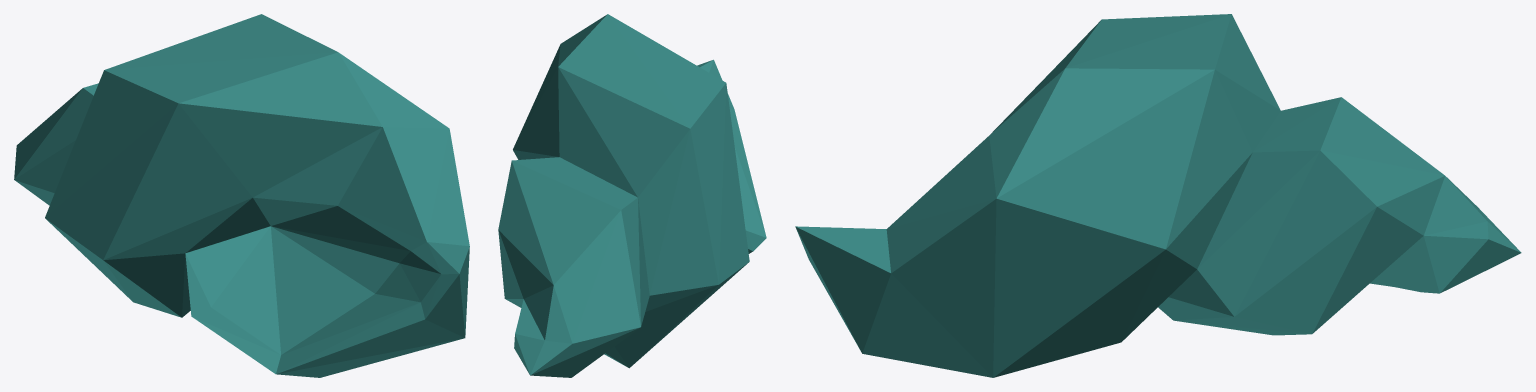
File: SM_Sea_Shell_Snail_A.fbx
3 views of the same model, side by side, from view 1: azimuth 30°, elevation 25°; view 2: azimuth 150°, elevation 25°; view 3: azimuth 270°, elevation 25° (orthographic). The views are drawn at different scales.
Visible parts, largest first — view 1: sea-shell-snail-a; view 2: sea-shell-snail-a; view 3: sea-shell-snail-a.
Boxes of the visible parts, <box> form: sea-shell-snail-a: <box>14,14,469,377</box>; sea-shell-snail-a: <box>498,14,766,377</box>; sea-shell-snail-a: <box>795,14,1521,377</box>.
Bounding box in the file's own units: 0.0863 × 0.0827 × 0.1644.
